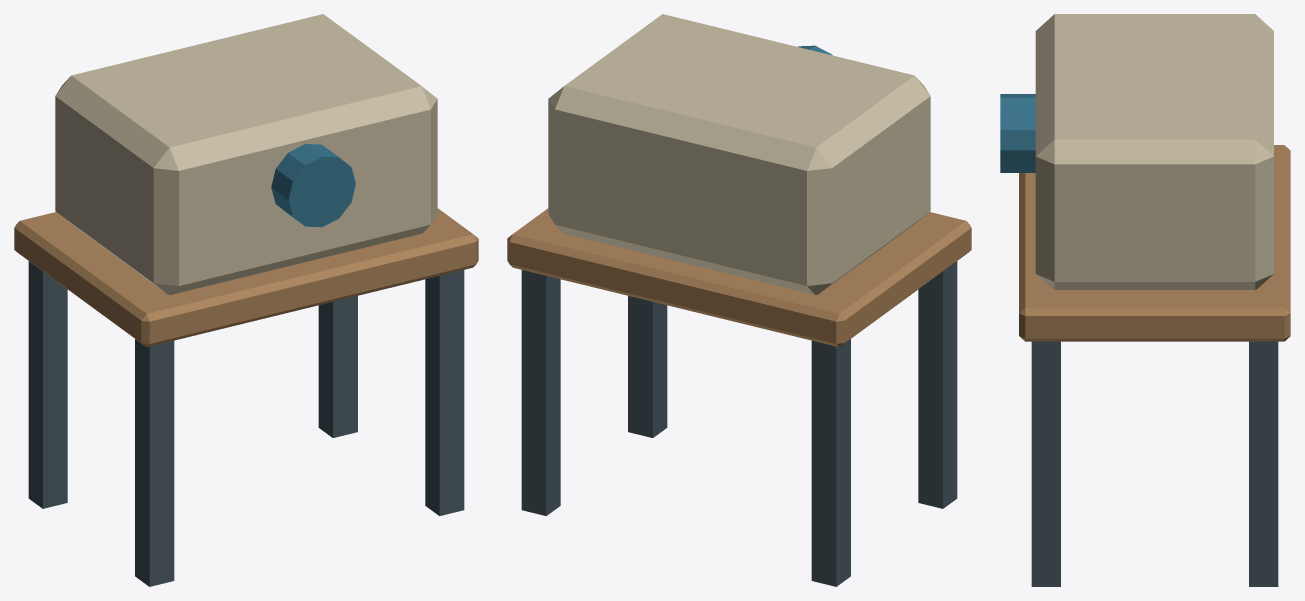
Rendered from projector_cart.glb.
The picture shows the model from 3 angles, left to right: view 1: azimuth 30°, elevation 25°; view 2: azimuth 150°, elevation 25°; view 3: azimuth 270°, elevation 25°; orthographic projection.
Visible parts, largest first — view 1: projector_cart; view 2: projector_cart; view 3: projector_cart.
Boxes of the visible parts, x1,y1,x2,y2 form: projector_cart: (14,14,478,586); projector_cart: (507,14,971,586); projector_cart: (1000,14,1290,586).
Bounding box in the file's own units: 0.95 × 1.14 × 0.695.
